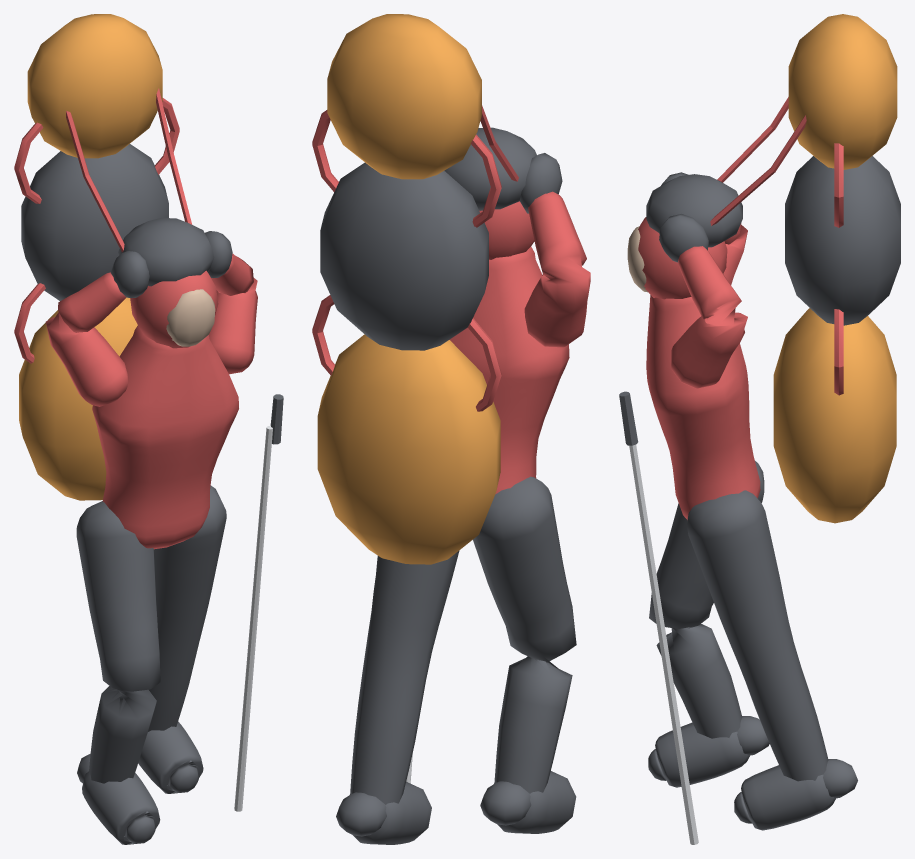
Rendered from mountaineering-and-summit-expedition-porter-with-load-c10e471d__18789.glb.
3 views of the same model, side by side, from view 1: azimuth 30°, elevation 25°; view 2: azimuth 150°, elevation 25°; view 3: azimuth 270°, elevation 25° (orthographic). The views are drawn at different scales.
Parts seen in each view (by area): view 1: porter-with-load; view 2: porter-with-load; view 3: porter-with-load.
Boxes of the visible parts, x1=… form: porter-with-load: x1=14, y1=14, x2=283, y2=844; porter-with-load: x1=312, y1=14, x2=590, y2=844; porter-with-load: x1=619, y1=14, x2=900, y2=844.
Size of the model in its own units: 0.6319 by 2.22 by 0.7217.
